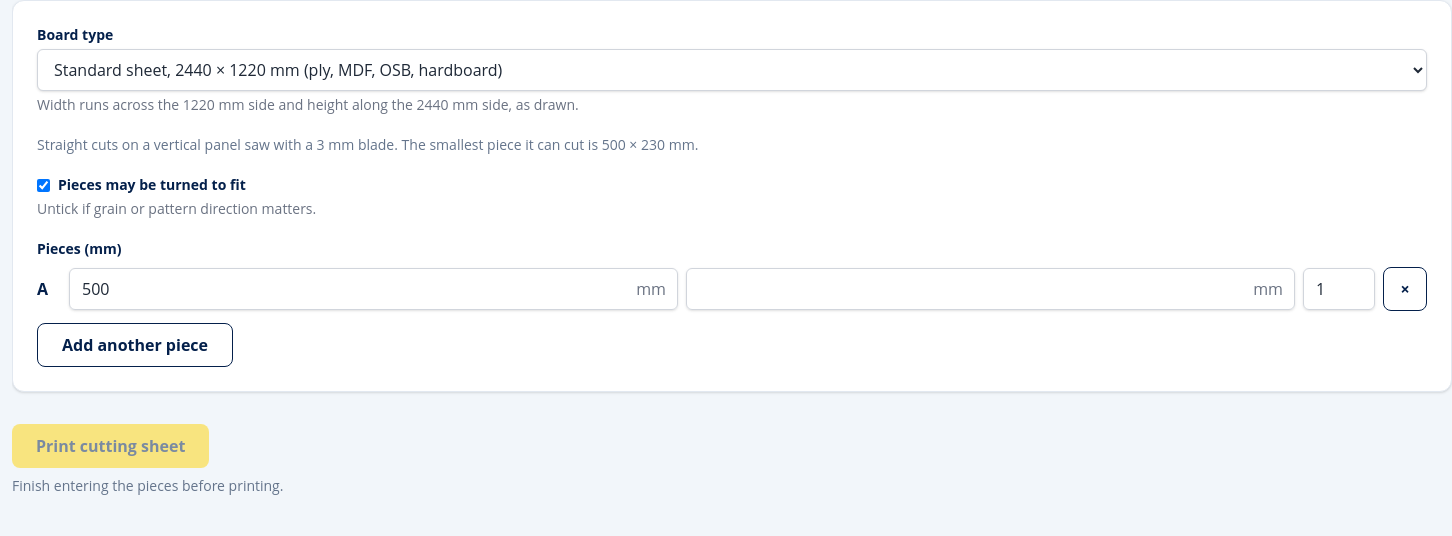
Test: BoardCuttingCalculator › counts a size the browser could not read as entered and flags it
This screenshot has width=1452, height=536.
Clear the number field named "Width of piece A" at (374, 289), box [69,268,678,310]
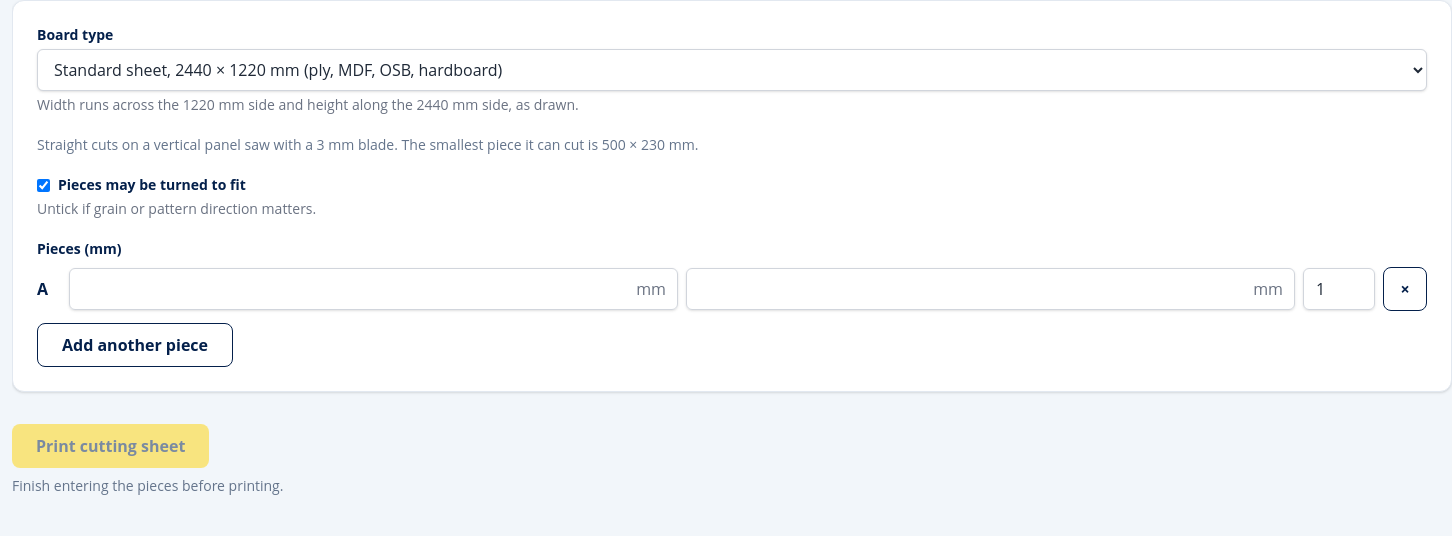
Leave the number field named "Width of piece A", box [69,268,678,310]
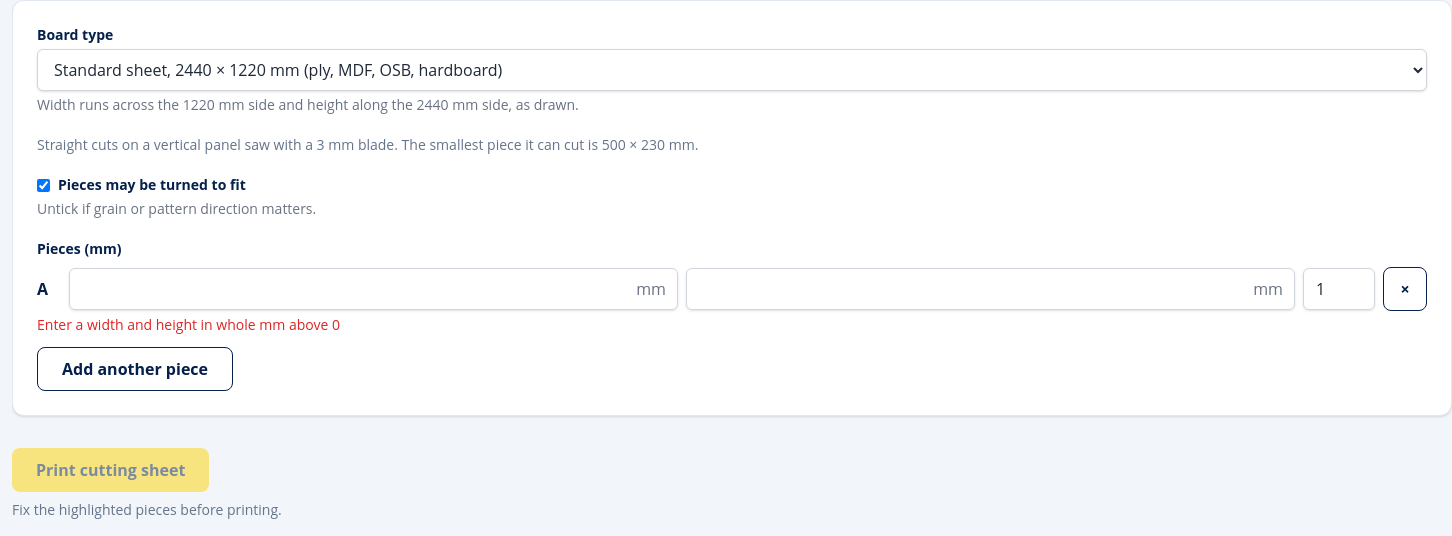
Expected: the button "Print cutting sheet" is disabled, [12,448,209,492]
Now the text "Enter a width and height in whole mm above 0" is shown, box [37,315,340,334]
